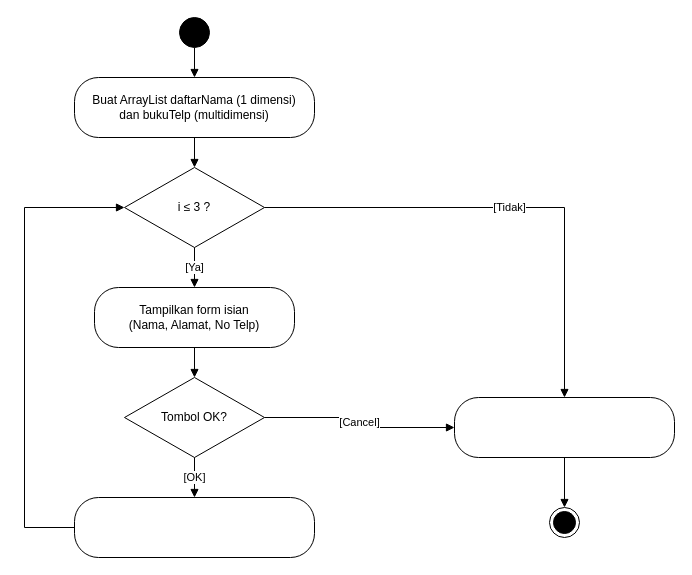
The diagram is 692 pixels wide and 575 high, and some of its shapes have lost their labels. The shapes that lost their labels are listed below. From the top down, each one's box as (x1, y1, x2, y2) in pixels, then its label:
(454, 396, 674, 458): Tampilkan daftar nama dan buku telepon (JOptionPane)
(74, 496, 314, 558): Simpan data ke bukuTelp dan daftarNama i = i + 1
